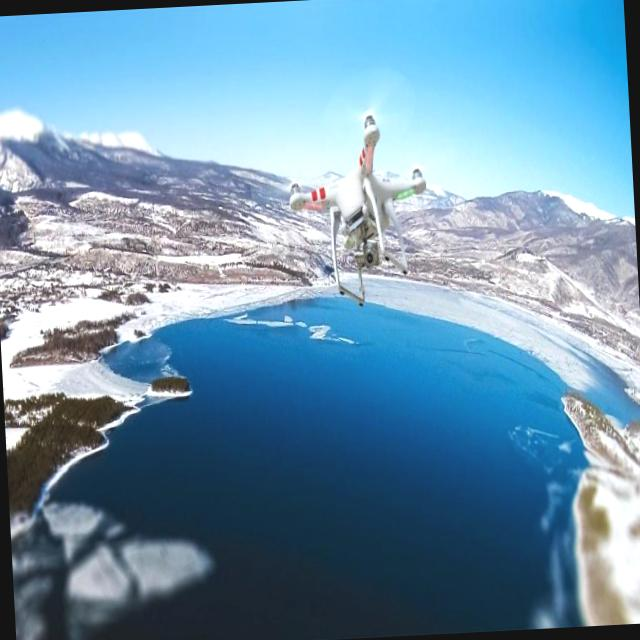drone: (281, 99, 435, 308)
